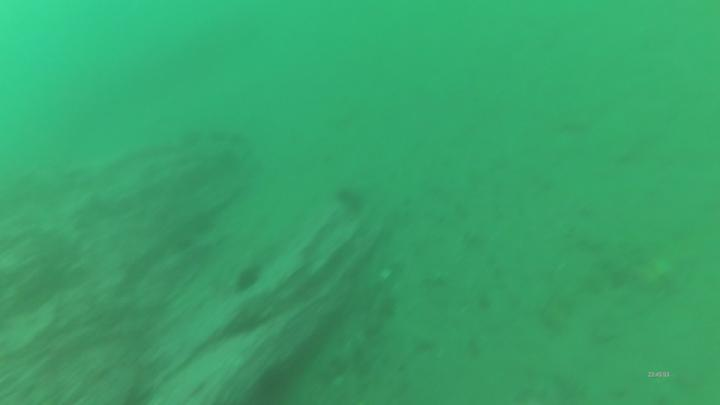echinus: (331, 185, 358, 210), (235, 269, 261, 294)
